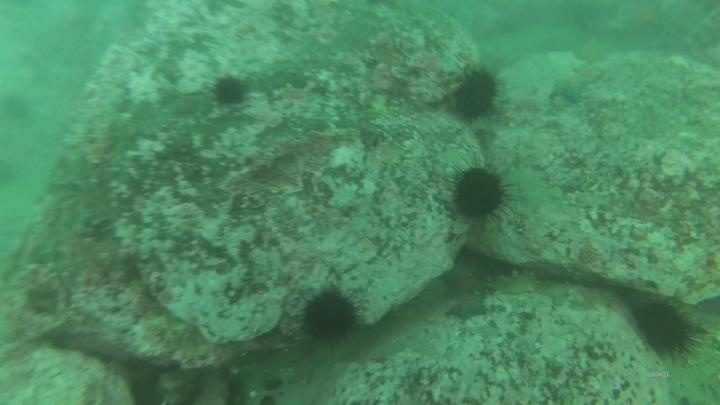echinus: (630, 297, 700, 360), (448, 162, 514, 225), (298, 284, 363, 347), (448, 65, 503, 123), (210, 74, 250, 108), (1, 91, 33, 123)
holothurian: (483, 269, 547, 300)
starfish: (547, 70, 595, 104), (442, 293, 490, 323), (443, 268, 491, 298)
